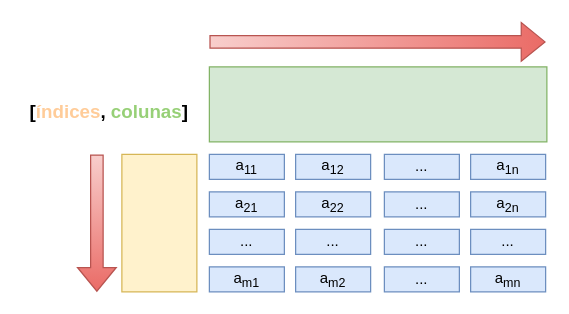
The diagram is 569 pixels wide and 314 high, and some of its shapes have lost their labels. Each missing label, with the centre of its shape:
"colunas" goes at pixel 377 104.
"índices" goes at pixel 159 222.
